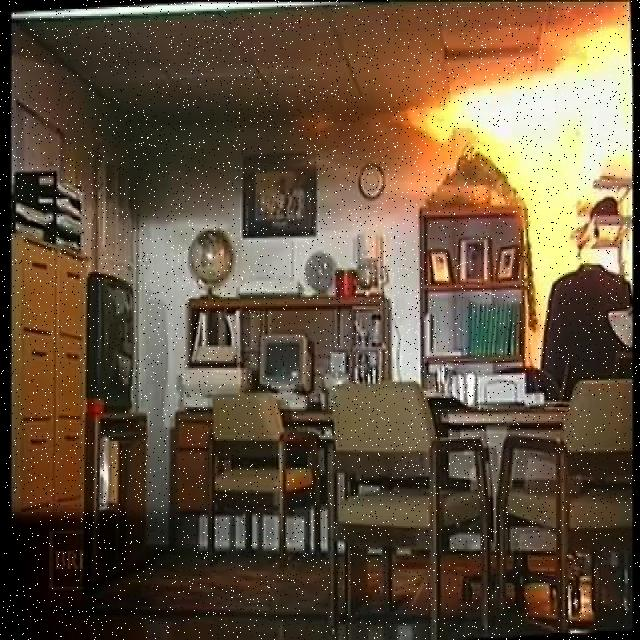fire: (396, 9, 640, 318)
